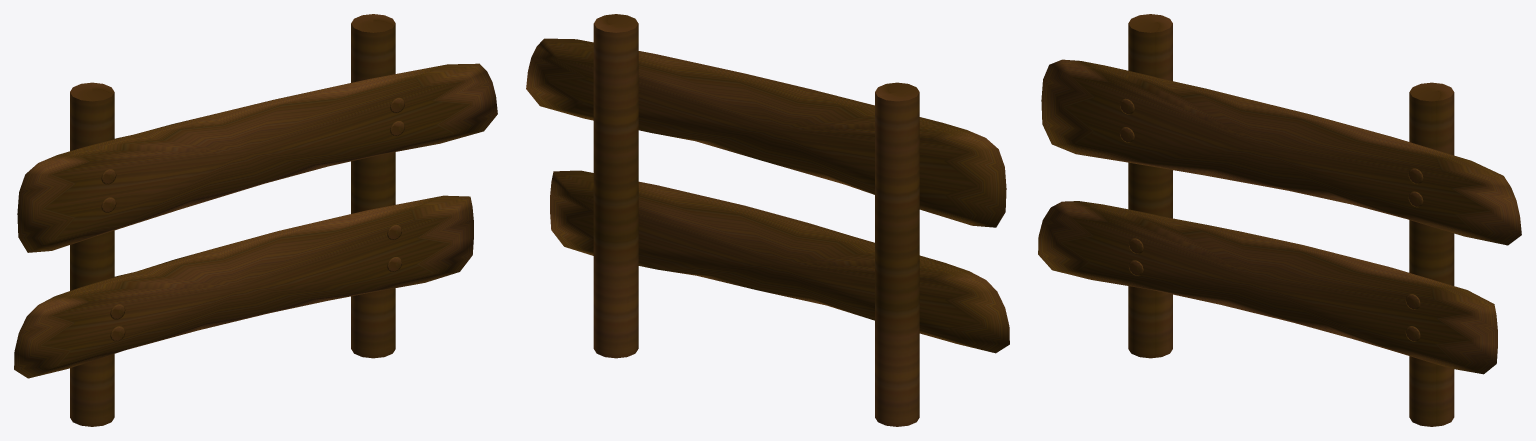
The model's file is Fence.FBX.
3 renders of one model, left to right at view 1: azimuth 30°, elevation 25°; view 2: azimuth 150°, elevation 25°; view 3: azimuth 330°, elevation 25°, orthographic.
Parts seen in each view (by area): view 1: Box001, Box002, Cylinder002, Cylinder001; view 2: Box001, Box002, Cylinder002, Cylinder001; view 3: Box001, Box002, Cylinder002, Cylinder001.
Boxes of the visible parts, x1,y1,x2,y2 form: Box001: (17,63,497,252); Box002: (14,195,473,378); Cylinder002: (351,14,395,358); Cylinder001: (70,82,114,426); Box001: (526,38,1006,227); Box002: (550,170,1009,353); Cylinder002: (593,14,638,358); Cylinder001: (875,82,919,426); Box001: (1041,59,1521,245); Box002: (1038,201,1497,374); Cylinder002: (1409,82,1454,426); Cylinder001: (1128,14,1172,358).
Size of the model in its own units: 78.68 by 50.57 by 8.97.
2 materials, 2 textured.
